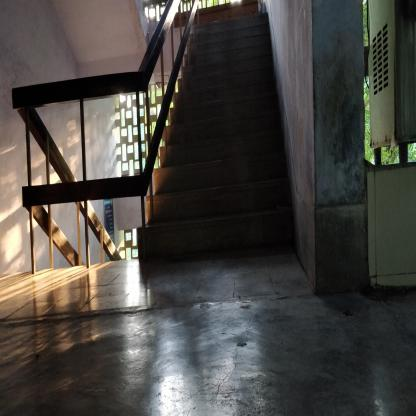stairs: (140, 161, 288, 280)
